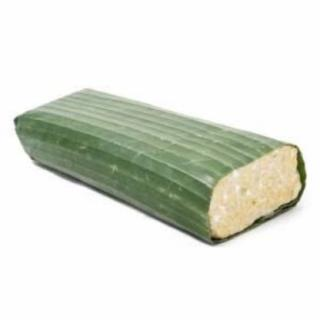Tempe: (13, 87, 309, 247)
